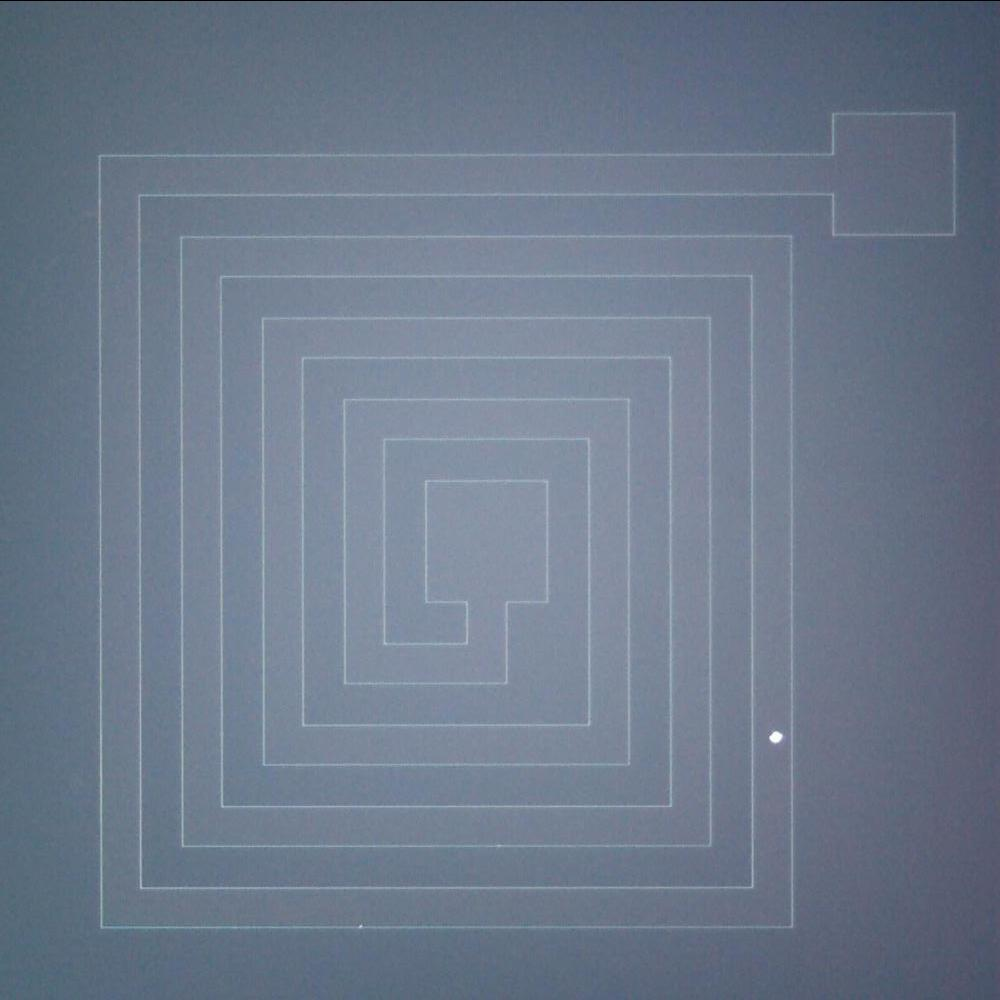spot: (762, 722, 794, 750)
